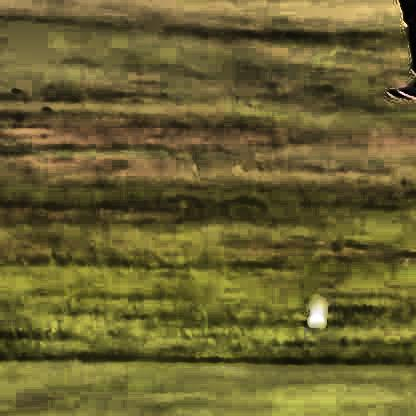golfball: (303, 298, 325, 326)
